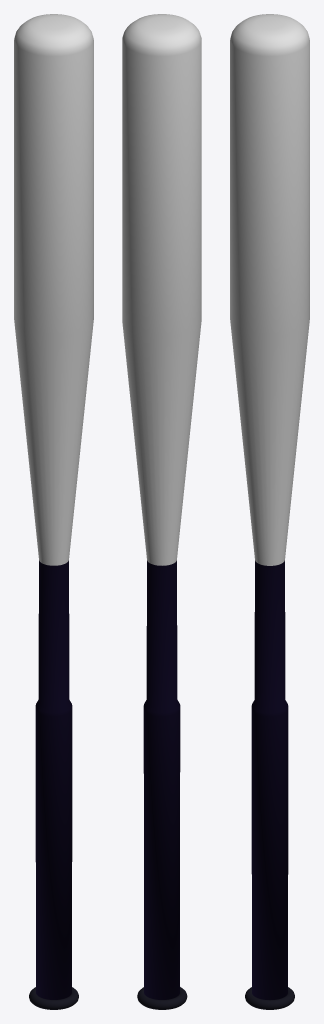
File: Bat_3.fbx
3 renders of one model, left to right at view 1: azimuth 90°, elevation 25°; view 2: azimuth 150°, elevation 25°; view 3: azimuth 270°, elevation 25°, orthographic.
Parts seen in each view (by area): view 1: Circle, Torus; view 2: Circle, Torus; view 3: Circle, Torus.
Boxes of the visible parts, x1,y1,x2,y2 form: Circle: [14, 14, 93, 999]; Torus: [29, 987, 78, 1009]; Circle: [122, 14, 201, 999]; Torus: [137, 987, 187, 1009]; Circle: [230, 14, 309, 999]; Torus: [245, 987, 294, 1009].
Bounding box in the file's own units: 32.09 × 434 × 32.09.
